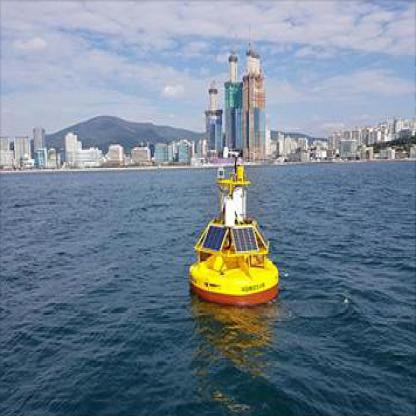buoy: (192, 156, 282, 315)
